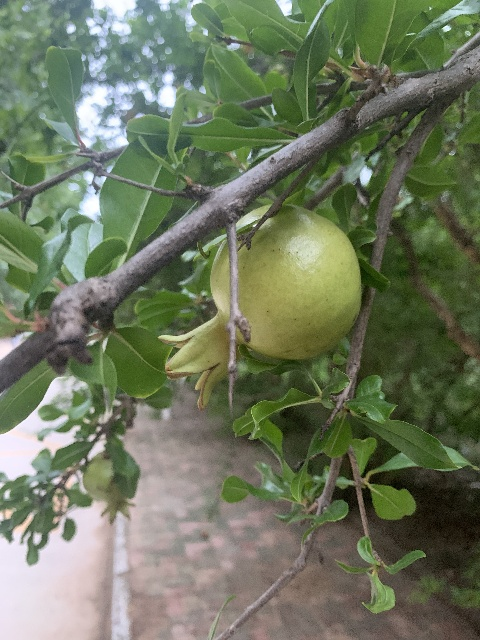mid-growth: (157, 205, 362, 410), (83, 450, 138, 523)
